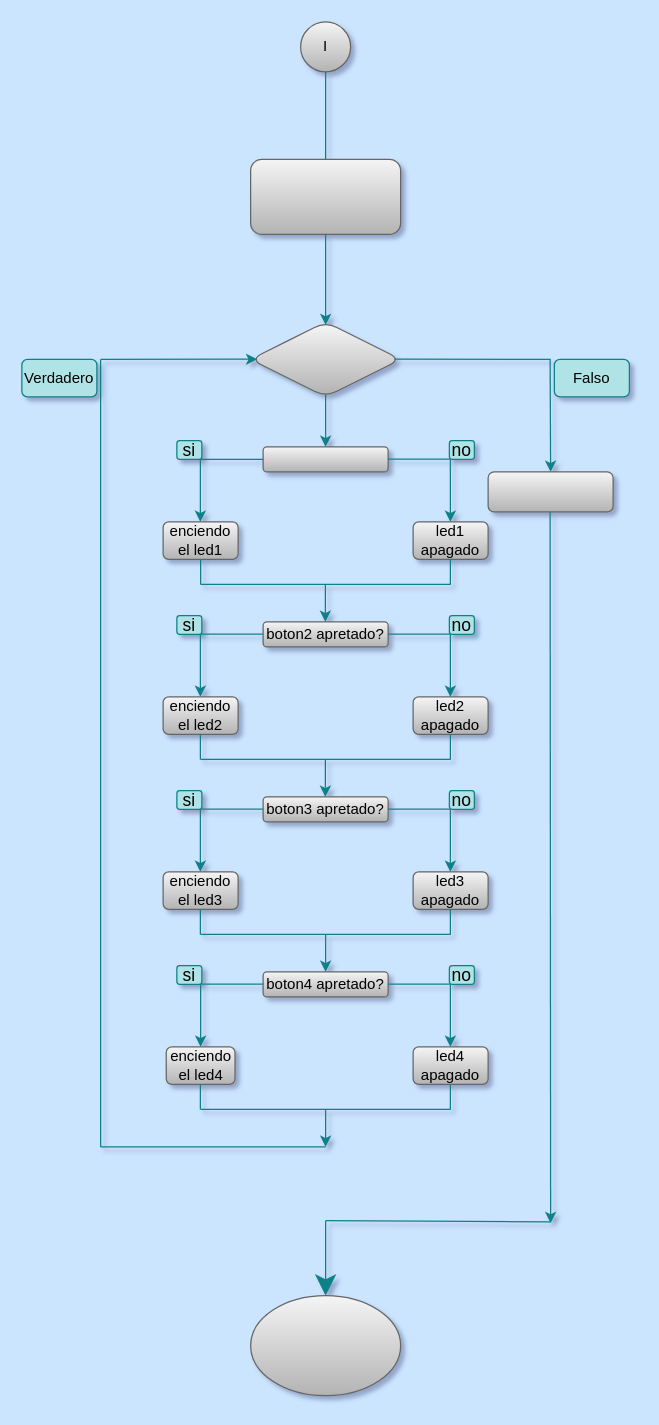
This 659x1425 diagram has some shape labels left out. The shapes that lost their labels are listed below. From the top down, each one's centre as x and y in pixels, then its label:
the point at 325,196: COMIENZO DEL MICRO
the point at 325,359: mientras que
the point at 325,459: boton1 apretado?
the point at 550,491: ningun boton apretado?
the point at 325,1345: FIN
